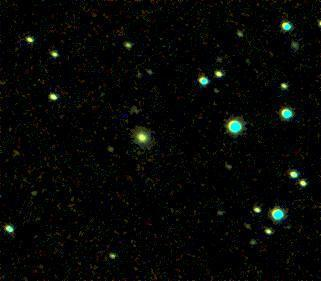star: (5, 139, 35, 169)
